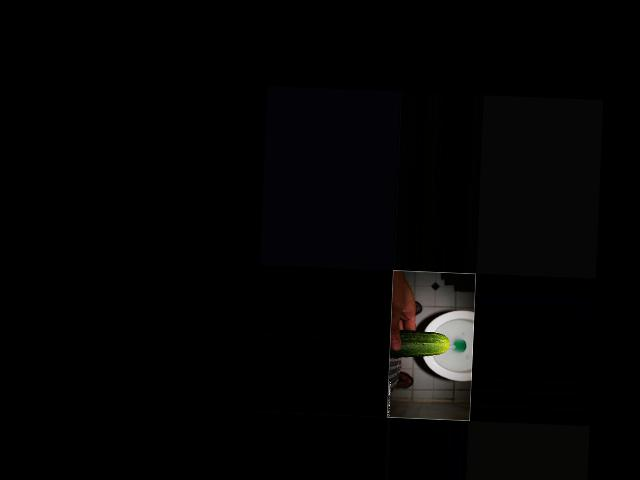cucumber: (388, 330, 449, 360)
